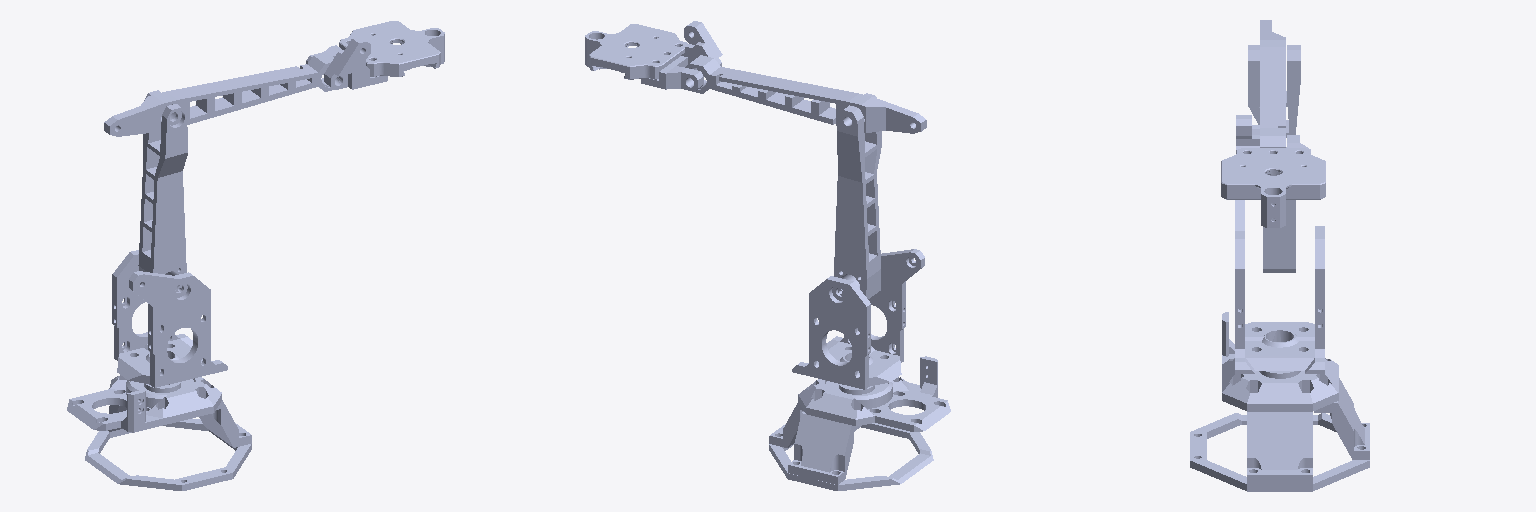
robot.urdf — robotarmhackathon:
<?xml version="1.0" encoding="utf-8"?>
<!-- This URDF was automatically created by SolidWorks to URDF Exporter! Originally created by [author] ([email redacted]) 
     Commit Version: 1.6.0-1-g15f4949  Build Version: 1.6.7594.29634
     For more information, please see http://wiki.ros.org/sw_urdf_exporter -->
<robot
  name="robotarmhackathon">
  <link
    name="base_link">
    <inertial>
      <origin
        xyz="104.20674769568 2.14038854680129 48.9094117884757"
        rpy="0 0 0" />
      <mass
        value="10467613.2406238" />
      <inertia
        ixx="13107519632.3634"
        ixy="-55188521.1955575"
        ixz="-1605823.10235128"
        iyy="23918500476.9016"
        iyz="109816.326054326"
        izz="10845868482.5405" />
    </inertial>
    <visual>
      <origin
        xyz="0 0 0"
        rpy="0 0 0" />
      <geometry>
        <mesh
          filename="package://robotarmhackathon/meshes/base_link.STL" />
      </geometry>
      <material
        name="">
        <color
          rgba="0.792156862745098 0.819607843137255 0.933333333333333 1" />
      </material>
    </visual>
    <collision>
      <origin
        xyz="0 0 0"
        rpy="0 0 0" />
      <geometry>
        <mesh
          filename="package://robotarmhackathon/meshes/base_link.STL" />
      </geometry>
    </collision>
  </link>
  <link
    name="base_leg_1">
    <inertial>
      <origin
        xyz="99.9315149733181 -85.7872417456713 -44.1134507472189"
        rpy="0 0 0" />
      <mass
        value="14024454.6532922" />
      <inertia
        ixx="2322712012.02237"
        ixy="-6153470.93379884"
        ixz="-9980267.40975024"
        iyy="3164204483.44981"
        iyz="-932011049.07348"
        izz="2260407763.54338" />
    </inertial>
    <visual>
      <origin
        xyz="0 0 0"
        rpy="0 0 0" />
      <geometry>
        <mesh
          filename="package://robotarmhackathon/meshes/base_leg_1.STL" />
      </geometry>
      <material
        name="">
        <color
          rgba="0.792156862745098 0.819607843137255 0.933333333333333 1" />
      </material>
    </visual>
    <collision>
      <origin
        xyz="0 0 0"
        rpy="0 0 0" />
      <geometry>
        <mesh
          filename="package://robotarmhackathon/meshes/base_leg_1.STL" />
      </geometry>
    </collision>
  </link>
  <joint
    name="base_leg_1"
    type="fixed">
    <origin
      xyz="0.0331750659552412 0.035150719337271 67.6999969482422"
      rpy="0 0 0" />
    <parent
      link="base_link" />
    <child
      link="base_leg_1" />
    <axis
      xyz="0 0 0" />
  </joint>
  <link
    name="base_leg_2">
    <inertial>
      <origin
        xyz="99.9315149733181 -85.7872417456714 -44.1134507472189"
        rpy="0 0 0" />
      <mass
        value="14024454.6532921" />
      <inertia
        ixx="2322712012.02236"
        ixy="-6153470.93379897"
        ixz="-9980267.40975122"
        iyy="3164204483.4498"
        iyz="-932011049.073476"
        izz="2260407763.54337" />
    </inertial>
    <visual>
      <origin
        xyz="0 0 0"
        rpy="0 0 0" />
      <geometry>
        <mesh
          filename="package://robotarmhackathon/meshes/base_leg_2.STL" />
      </geometry>
      <material
        name="">
        <color
          rgba="0.792156862745098 0.819607843137255 0.933333333333333 1" />
      </material>
    </visual>
    <collision>
      <origin
        xyz="0 0 0"
        rpy="0 0 0" />
      <geometry>
        <mesh
          filename="package://robotarmhackathon/meshes/base_leg_2.STL" />
      </geometry>
    </collision>
  </link>
  <joint
    name="base_leg_2"
    type="fixed">
    <origin
      xyz="220.986813987056 -149.227297525002 -22.7000007629394"
      rpy="3.14159265358979 0 1.5707963267949" />
    <parent
      link="base_link" />
    <child
      link="base_leg_2" />
    <axis
      xyz="0 0 0" />
  </joint>
  <link
    name="base_leg_3">
    <inertial>
      <origin
        xyz="99.9315149733181 -85.7872417456713 -44.1134507472189"
        rpy="0 0 0" />
      <mass
        value="14024454.6532921" />
      <inertia
        ixx="2322712012.02237"
        ixy="-6153470.93379867"
        ixz="-9980267.40975017"
        iyy="3164204483.44981"
        iyz="-932011049.073479"
        izz="2260407763.54338" />
    </inertial>
    <visual>
      <origin
        xyz="0 0 0"
        rpy="0 0 0" />
      <geometry>
        <mesh
          filename="package://robotarmhackathon/meshes/base_leg_3.STL" />
      </geometry>
      <material
        name="">
        <color
          rgba="0.792156862745098 0.819607843137255 0.933333333333333 1" />
      </material>
    </visual>
    <collision>
      <origin
        xyz="0 0 0"
        rpy="0 0 0" />
      <geometry>
        <mesh
          filename="package://robotarmhackathon/meshes/base_leg_3.STL" />
      </geometry>
    </collision>
  </link>
  <joint
    name="base_leg_3"
    type="fixed">
    <origin
      xyz="200.053083215943 -98.2058725159484 67.6999969482422"
      rpy="0 0 3.14159265358979" />
    <parent
      link="base_link" />
    <child
      link="base_leg_3" />
    <axis
      xyz="0 0 0" />
  </joint>
  <link
    name="axis_1_base">
    <inertial>
      <origin
        xyz="95.9375121939249 -380.630664102495 -21.8762551208198"
        rpy="0 0 0" />
      <mass
        value="40932281.1699308" />
      <inertia
        ixx="14369922660.4427"
        ixy="-2077351721.99651"
        ixz="-399238146.758099"
        iyy="20887549884.6441"
        iyz="234293608.920345"
        izz="33961580084.1404" />
    </inertial>
    <visual>
      <origin
        xyz="0 0 0"
        rpy="0 0 0" />
      <geometry>
        <mesh
          filename="package://robotarmhackathon/meshes/axis_1_base.STL" />
      </geometry>
      <material
        name="">
        <color
          rgba="0.792156862745098 0.819607843137255 0.933333333333333 1" />
      </material>
    </visual>
    <collision>
      <origin
        xyz="0 0 0"
        rpy="0 0 0" />
      <geometry>
        <mesh
          filename="package://robotarmhackathon/meshes/axis_1_base.STL" />
      </geometry>
    </collision>
  </link>
  <joint
    name="axis_1_base"
    type="fixed">
    <origin
      xyz="-3.6672 330.04 67.7"
      rpy="0 0 0" />
    <parent
      link="base_link" />
    <child
      link="axis_1_base" />
    <axis
      xyz="0 0 0" />
  </joint>
  <link
    name="axis_1_child">
    <inertial>
      <origin
        xyz="-0.57045784518418 -0.847850206558562 25.4069730097391"
        rpy="0 0 0" />
      <mass
        value="42138053.5896542" />
      <inertia
        ixx="44674977820.4956"
        ixy="-1139948725.46951"
        ixz="3663987083.6928"
        iyy="36428923022.2857"
        iyz="2198460579.50893"
        izz="27528388109.4216" />
    </inertial>
    <visual>
      <origin
        xyz="0 0 0"
        rpy="0 0 0" />
      <geometry>
        <mesh
          filename="package://robotarmhackathon/meshes/axis_1_child.STL" />
      </geometry>
      <material
        name="">
        <color
          rgba="0.792156862745098 0.819607843137255 0.933333333333333 1" />
      </material>
    </visual>
    <collision>
      <origin
        xyz="0 0 0"
        rpy="0 0 0" />
      <geometry>
        <mesh
          filename="package://robotarmhackathon/meshes/axis_1_child.STL" />
      </geometry>
    </collision>
  </link>
  <joint
    name="axis_1_child"
    type="continuous">
    <origin
      xyz="99.999 -379.22 -0.05"
      rpy="0 0 0" />
    <parent
      link="axis_1_base" />
    <child
      link="axis_1_child" />
    <axis
      xyz="0 0 1" />
  </joint>
  <link
    name="arm1">
    <inertial>
      <origin
        xyz="-37.4809094503138 0.801315982716993 34.5576406838505"
        rpy="0 0 0" />
      <mass
        value="33427957.8252588" />
      <inertia
        ixx="28352419324.3511"
        ixy="701152712.603097"
        ixz="27013648567.803"
        iyy="56973636333.2576"
        iyz="-645733310.894033"
        izz="32876966176.0036" />
    </inertial>
    <visual>
      <origin
        xyz="0 0 0"
        rpy="0 0 0" />
      <geometry>
        <mesh
          filename="package://robotarmhackathon/meshes/arm1.STL" />
      </geometry>
      <material
        name="">
        <color
          rgba="0.792156862745098 0.819607843137255 0.933333333333333 1" />
      </material>
    </visual>
    <collision>
      <origin
        xyz="0 0 0"
        rpy="0 0 0" />
      <geometry>
        <mesh
          filename="package://robotarmhackathon/meshes/arm1.STL" />
      </geometry>
    </collision>
  </link>
  <joint
    name="arm1"
    type="continuous">
    <origin
      xyz="0.033422 0 61.071"
      rpy="0 0.82644 3.1416" />
    <parent
      link="axis_1_child" />
    <child
      link="arm1" />
    <axis
      xyz="0 1 0" />
  </joint>
  <link
    name="arm2">
    <inertial>
      <origin
        xyz="66.3717579477605 -5.6523979593916 33.0767881043029"
        rpy="0 0 0" />
      <mass
        value="36928888.8607213" />
      <inertia
        ixx="14362604458.5882"
        ixy="-1227795195.20732"
        ixz="-21476693883.7102"
        iyy="57955982621.5579"
        iyz="23540789.3879213"
        izz="48768974871.0532" />
    </inertial>
    <visual>
      <origin
        xyz="0 0 0"
        rpy="0 0 0" />
      <geometry>
        <mesh
          filename="package://robotarmhackathon/meshes/arm2.STL" />
      </geometry>
      <material
        name="">
        <color
          rgba="0.792156862745098 0.819607843137255 0.933333333333333 1" />
      </material>
    </visual>
    <collision>
      <origin
        xyz="0 0 0"
        rpy="0 0 0" />
      <geometry>
        <mesh
          filename="package://robotarmhackathon/meshes/arm2.STL" />
      </geometry>
    </collision>
  </link>
  <joint
    name="arm2"
    type="continuous">
    <origin
      xyz="-88.064 0 81.116"
      rpy="0 1.2805 3.1416" />
    <parent
      link="arm1" />
    <child
      link="arm2" />
    <axis
      xyz="0 1 0" />
  </joint>
  <link
    name="endeffector1">
    <inertial>
      <origin
        xyz="133.627013638223 -54.1219380079637 199.011710293106"
        rpy="0 0 0" />
      <mass
        value="12888695.7038069" />
      <inertia
        ixx="2882385634.16868"
        ixy="-232380366.832862"
        ixz="253811824.524402"
        iyy="1817042019.06422"
        iyz="553056013.483461"
        izz="3244707577.17995" />
    </inertial>
    <visual>
      <origin
        xyz="0 0 0"
        rpy="0 0 0" />
      <geometry>
        <mesh
          filename="package://robotarmhackathon/meshes/endeffector1.STL" />
      </geometry>
      <material
        name="">
        <color
          rgba="0.792156862745098 0.819607843137255 0.933333333333333 1" />
      </material>
    </visual>
    <collision>
      <origin
        xyz="0 0 0"
        rpy="0 0 0" />
      <geometry>
        <mesh
          filename="package://robotarmhackathon/meshes/endeffector1.STL" />
      </geometry>
    </collision>
  </link>
  <joint
    name="endeffector1"
    type="continuous">
    <origin
      xyz="86.484 45.917 -176.24"
      rpy="0 -0.45405 0" />
    <parent
      link="arm2" />
    <child
      link="endeffector1" />
    <axis
      xyz="0 -1 0" />
  </joint>
  <link
    name="endeffector2">
    <inertial>
      <origin
        xyz="-0.00395911319455422 3.23692438356659 4.85981240420523"
        rpy="0 0 0" />
      <mass
        value="22357667.7030269" />
      <inertia
        ixx="7153844560.42696"
        ixy="3276759.70488864"
        ixz="462212.01745629"
        iyy="5769081326.00476"
        iyz="-277445932.301696"
        izz="12310122424.0219" />
    </inertial>
    <visual>
      <origin
        xyz="0 0 0"
        rpy="0 0 0" />
      <geometry>
        <mesh
          filename="package://robotarmhackathon/meshes/endeffector2.STL" />
      </geometry>
      <material
        name="">
        <color
          rgba="0.792156862745098 0.819607843137255 0.933333333333333 1" />
      </material>
    </visual>
    <collision>
      <origin
        xyz="0 0 0"
        rpy="0 0 0" />
      <geometry>
        <mesh
          filename="package://robotarmhackathon/meshes/endeffector2.STL" />
      </geometry>
    </collision>
  </link>
  <joint
    name="endeffector2"
    type="fixed">
    <origin
      xyz="164.540512084961 -49.5 205.348281860352"
      rpy="3.14159265358979 0 1.5707963267949" />
    <parent
      link="endeffector1" />
    <child
      link="endeffector2" />
    <axis
      xyz="0 0 0" />
  </joint>
</robot>

--- Facts derived from the render (not from the file) ---
Views: 3 orthographic renders of the robot side by side, from view 1: azimuth 30°, elevation 25°; view 2: azimuth 150°, elevation 25°; view 3: azimuth 270°, elevation 25°.
Model robotarmhackathon with 10 links and 9 joints (4 continuous, 5 fixed), rooted at base_link, posed every joint at zero.
Links seen in each view (by area): view 1: axis_1_child, arm1, arm2, axis_1_base, endeffector2, base_link, endeffector1, base_leg_2; view 2: axis_1_child, arm1, arm2, axis_1_base, endeffector2, base_leg_3, base_link, endeffector1, base_leg_2; view 3: axis_1_child, endeffector2, axis_1_base, base_leg_2, arm1, base_link, arm2, base_leg_3, endeffector1.
Link boxes in pixels (<box>): axis_1_child: <box>112,250,227,387</box>; arm1: <box>138,90,187,291</box>; arm2: <box>104,52,333,136</box>; axis_1_base: <box>67,375,221,432</box>; endeffector2: <box>339,21,444,76</box>; base_link: <box>85,418,251,490</box>; endeffector1: <box>306,37,387,89</box>; base_leg_2: <box>199,400,251,447</box>; axis_1_child: <box>792,249,924,389</box>; arm1: <box>834,93,881,298</box>; arm2: <box>685,55,926,133</box>; axis_1_base: <box>798,356,950,431</box>; endeffector2: <box>585,24,687,79</box>; base_leg_3: <box>788,412,860,484</box>; base_link: <box>769,423,933,490</box>; endeffector1: <box>641,21,722,91</box>; base_leg_2: <box>769,402,803,447</box>; axis_1_child: <box>1235,200,1324,373</box>; endeffector2: <box>1221,148,1325,227</box>; axis_1_base: <box>1222,312,1338,411</box>; base_leg_2: <box>1247,412,1312,483</box>; arm1: <box>1248,45,1300,272</box>; base_link: <box>1190,413,1369,491</box>; arm2: <box>1260,20,1285,147</box>; base_leg_3: <box>1314,378,1369,459</box>; endeffector1: <box>1236,115,1310,149</box>.
Bounding box of the posed robot: 268 × 104 × 274 m (x, y, z).
9 mesh visuals loaded from 10 distinct referenced files (9 binary STL); not drawn: 1 (reference not matched to a file when rendering).